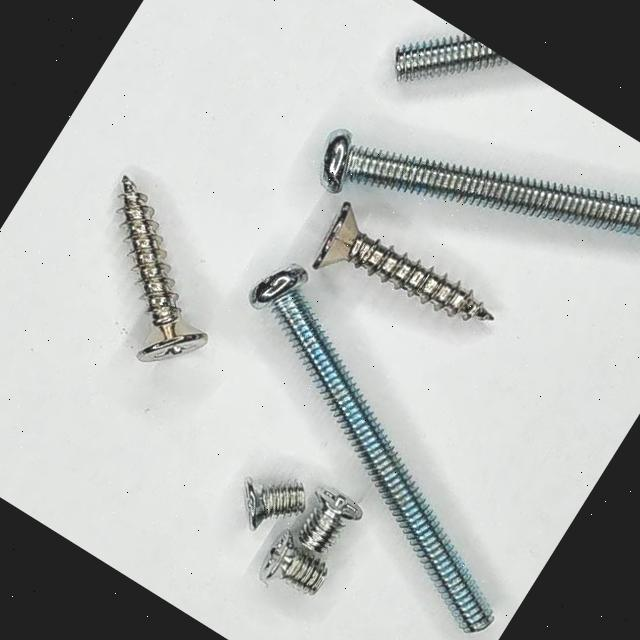Screw: (248, 264, 493, 634), (320, 129, 640, 235), (311, 201, 493, 320), (119, 175, 207, 362), (394, 33, 510, 79), (258, 530, 326, 596), (298, 488, 360, 553), (244, 479, 304, 530)
